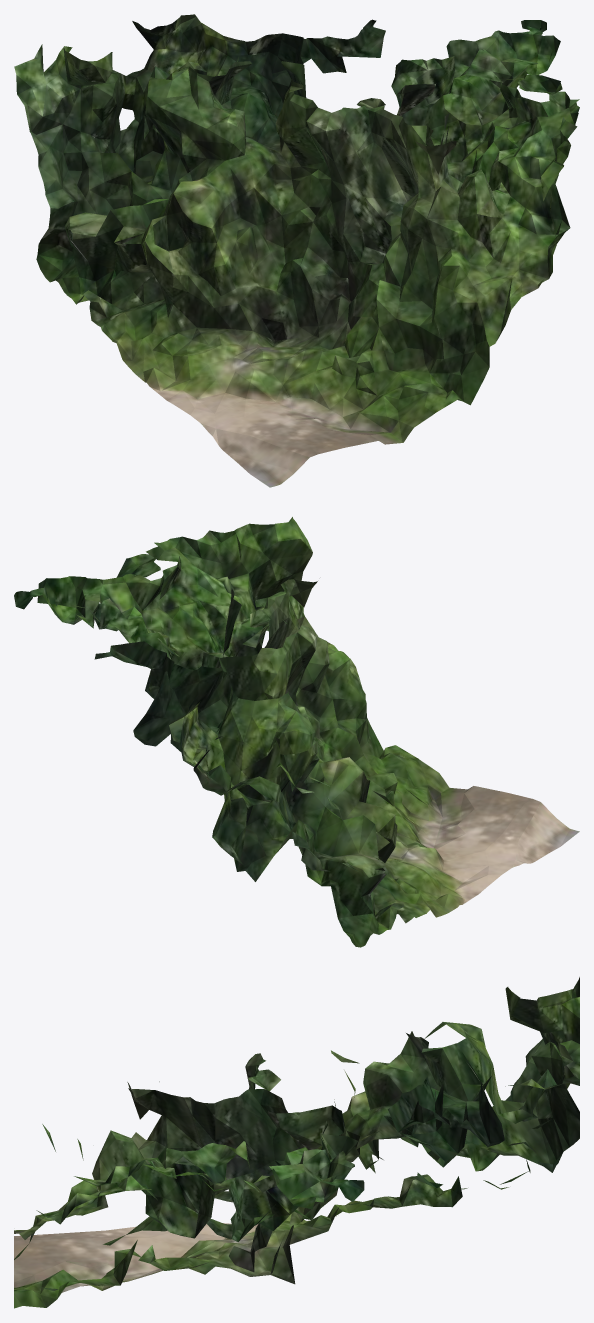
3 views of the same model, one above another, from view 1: azimuth 30°, elevation 25°; view 2: azimuth 150°, elevation 25°; view 3: azimuth 270°, elevation 25° (orthographic). The views are drawn at different scales.
Bounding box in the file's own units: 25.16 × 14.18 × 26.11.
4 materials, 4 textured.
